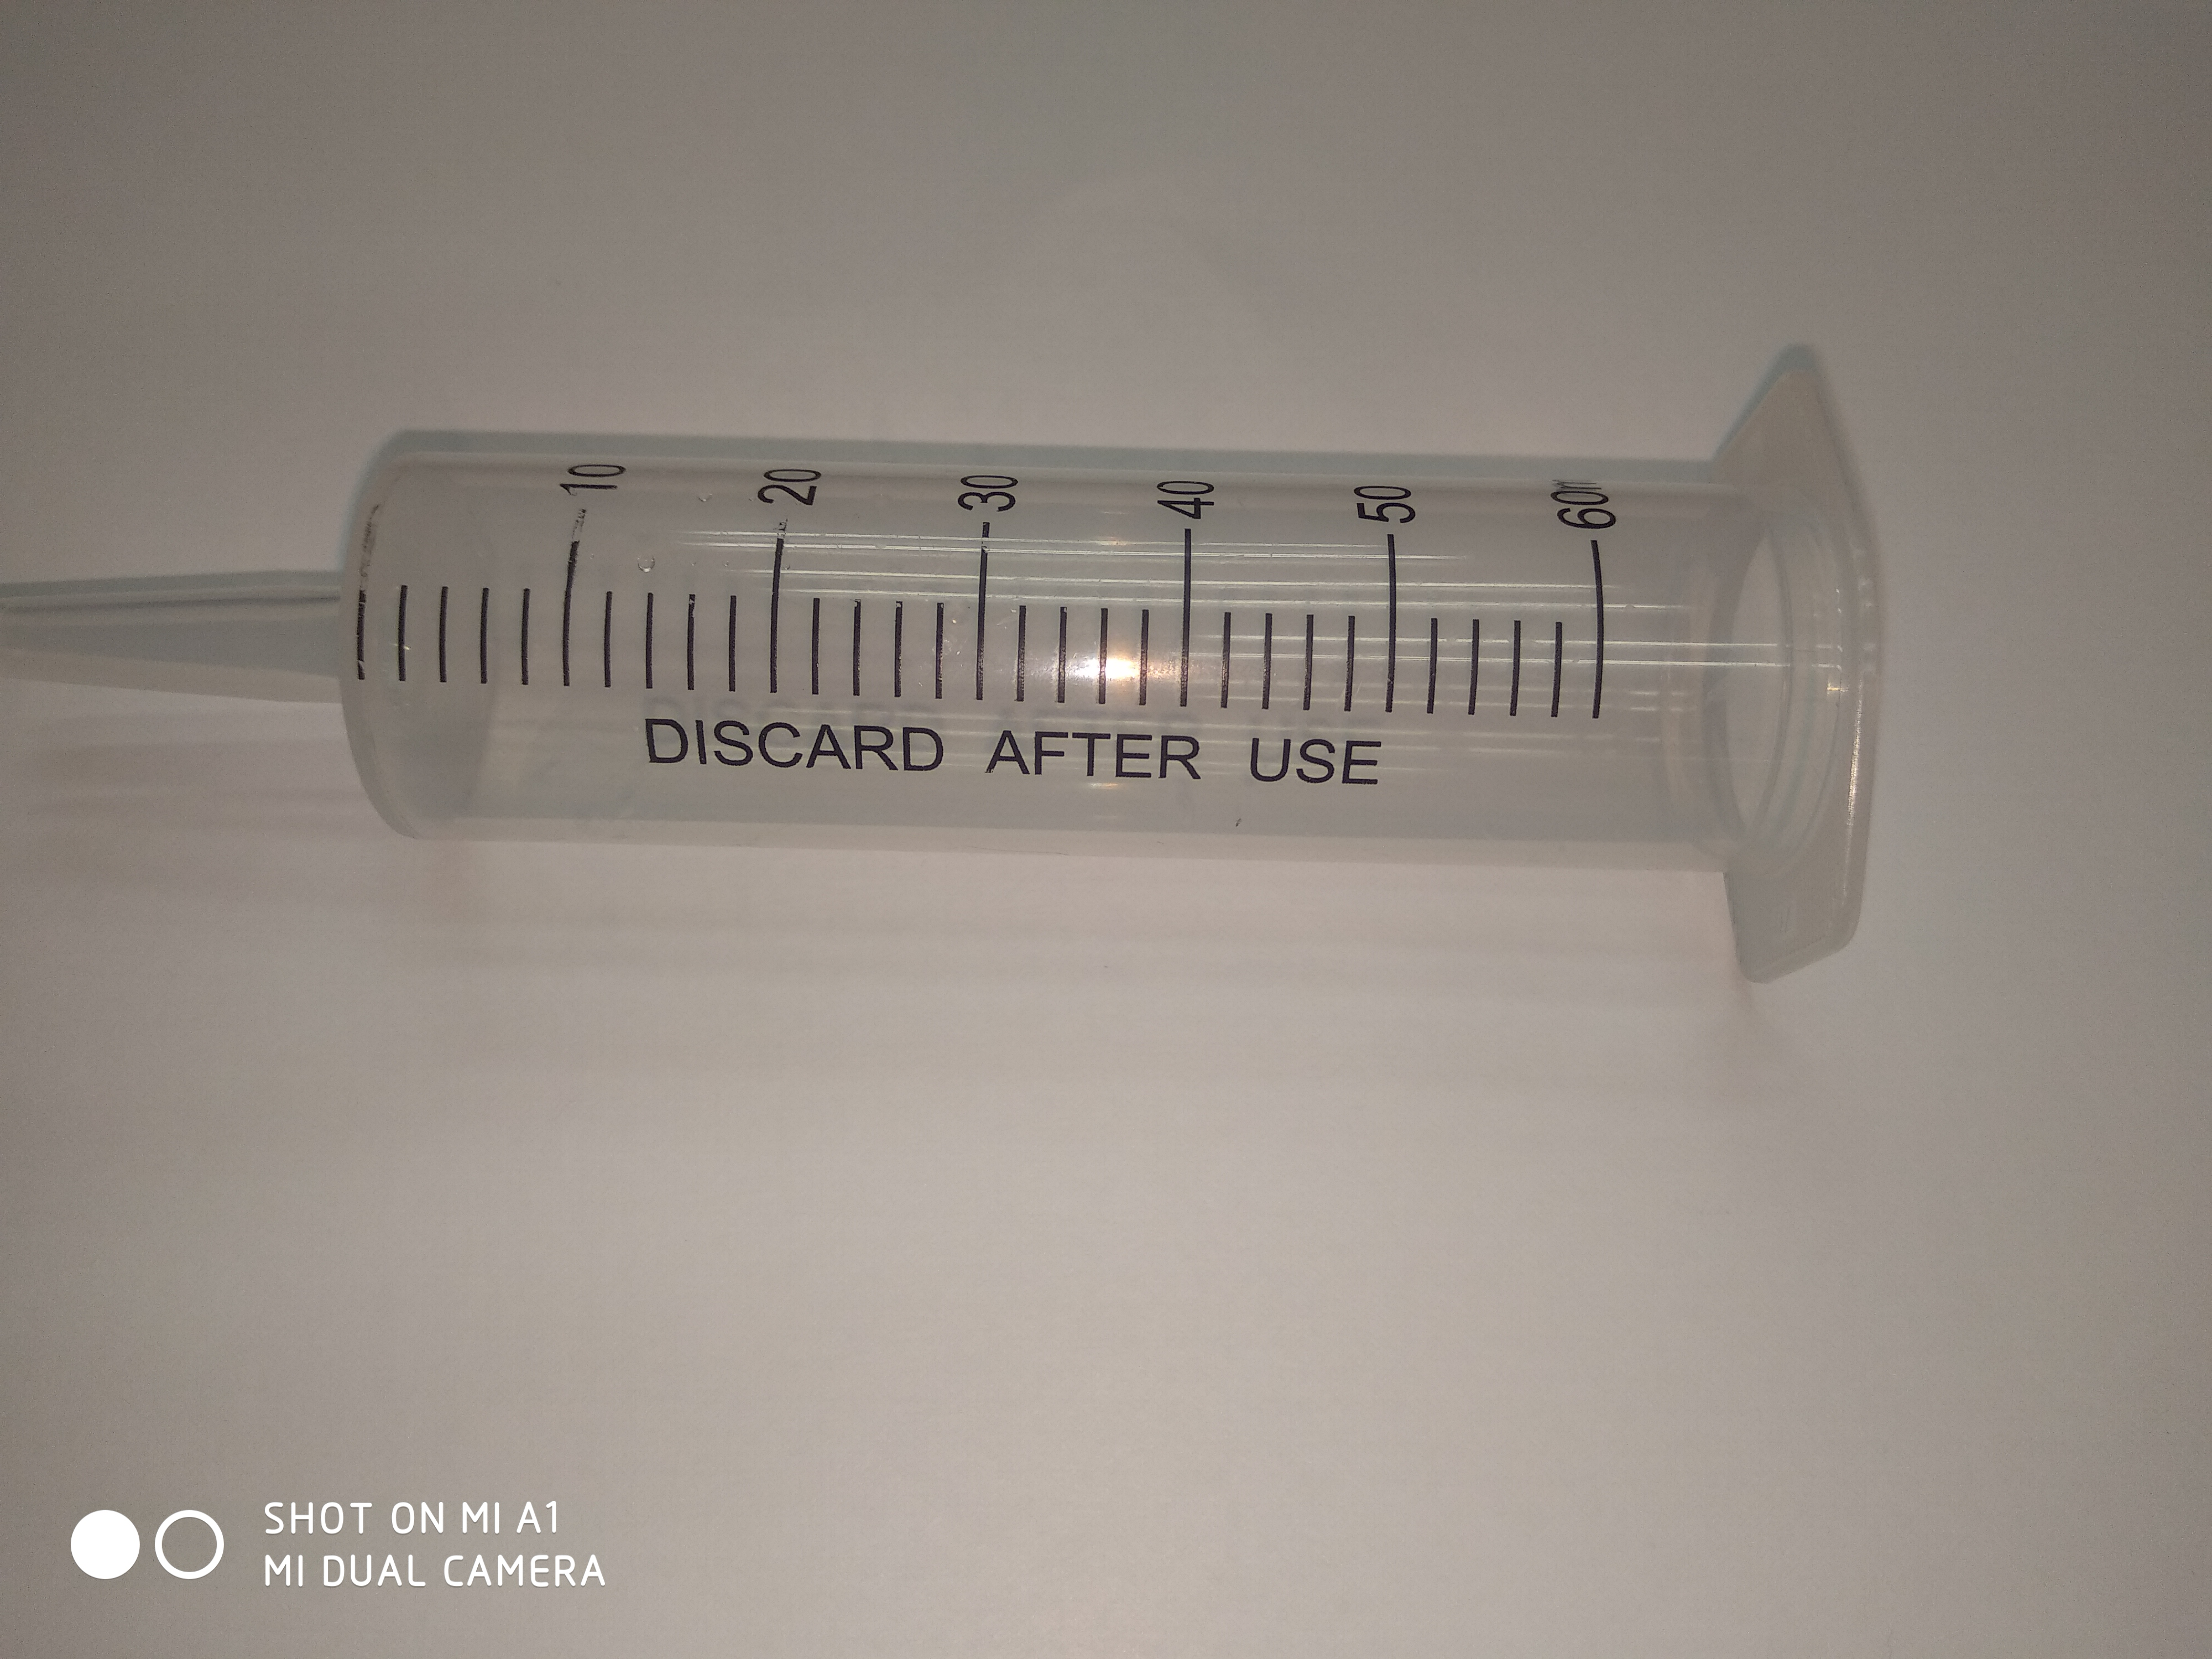syringe: (5, 347, 1893, 983)
